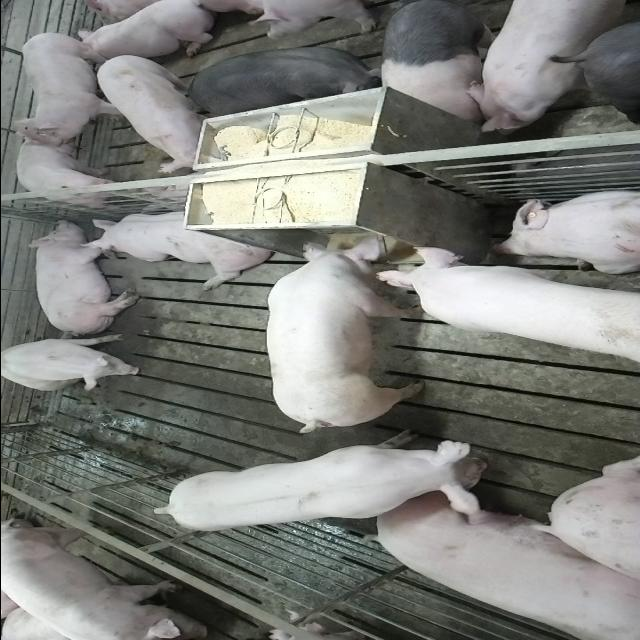Feeding: (266, 233, 430, 438), (366, 246, 632, 362)
Lateral_lying: (24, 220, 140, 337)
Sitting: (0, 334, 146, 390)
Standing: (148, 433, 492, 537), (0, 523, 205, 640), (461, 2, 640, 134), (382, 2, 506, 124), (96, 51, 216, 170), (14, 29, 130, 148), (183, 45, 374, 116), (15, 134, 130, 204)
Sternal_lying: (79, 208, 274, 288), (493, 185, 640, 271), (72, 3, 220, 61)
